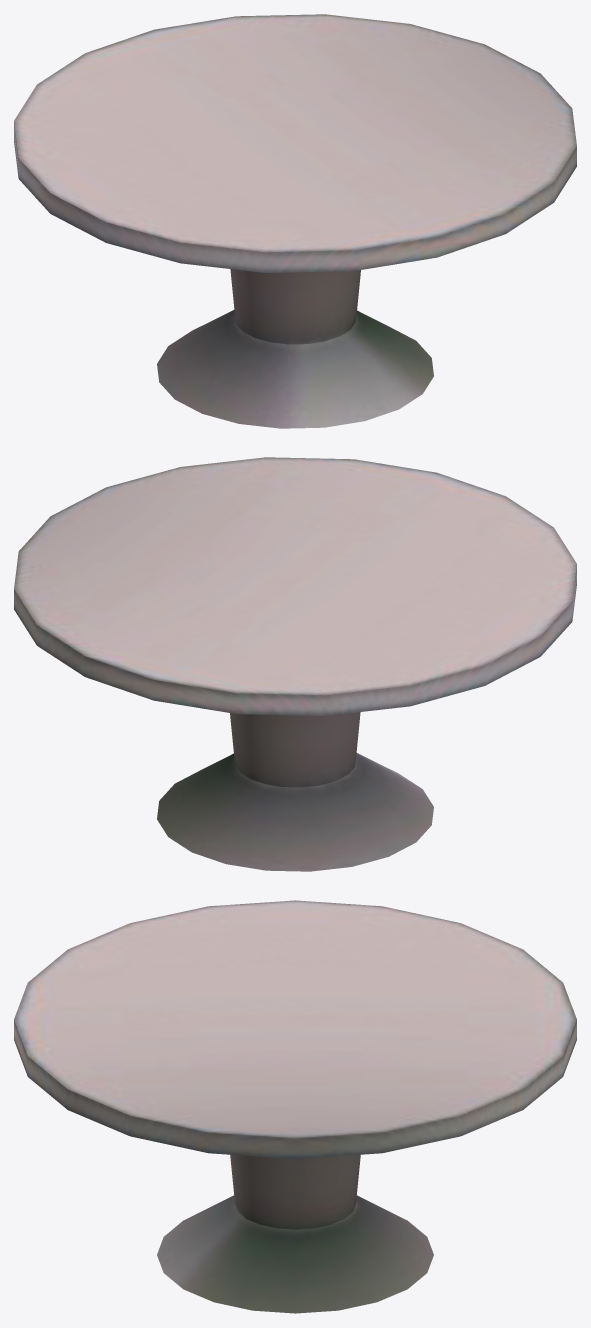
File: cakeStand.glb
The picture shows the model from 3 angles, top to bottom: view 1: azimuth 30°, elevation 25°; view 2: azimuth 150°, elevation 25°; view 3: azimuth 270°, elevation 25°; orthographic projection.
Parts seen in each view (by area): view 1: CakeBase; view 2: CakeBase; view 3: CakeBase.
Boxes of the visible parts, left/top/right/bottom form: CakeBase: left=14, top=14, right=576, bottom=428; CakeBase: left=14, top=457, right=576, bottom=871; CakeBase: left=14, top=900, right=576, bottom=1313.
Bounding box in the file's own units: 0.342 × 0.1579 × 0.342.
Materials: 1 (1 with a texture image).
